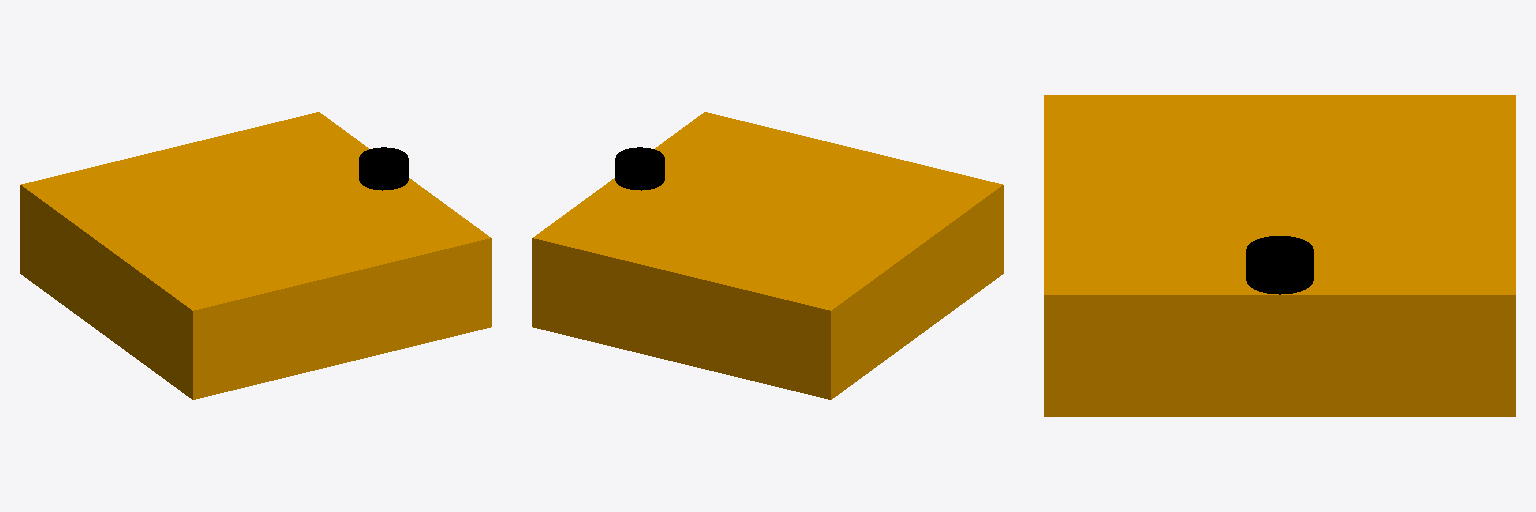
URDF robot description (bot):
<?xml version="1.0"?>
<robot name="bot">
    
  <!-- base link -->
  <link name="base_link">
      <visual>
      <origin xyz="0 0 0" rpy="0 0 0"/>
      <geometry>
        <!--<cylinder length="0.12" radius="0.10"/> -->
        <box size="0.7 0.7 0.2"/>
      </geometry>
    </visual>
  </link>
    
  <!-- laser link -->
  <link name="laser_link">
      <visual>
      <origin xyz="0 0 0" rpy="0 0 0"/>
      <geometry>
        <cylinder length="0.05" radius="0.05"/>
      </geometry>
      <material name="black">
          <color rgba="0.0 0.0 0.0 0.5" /> 
      </material>
    </visual>
  </link>
    
  <!-- laser joint -->
    <joint name="laser_joint" type="fixed">
        <parent link="base_link" />
        <child link="laser_link" />
        <origin xyz="0.3 0 0.125" />
    </joint>

</robot>

--- Facts derived from the render (not from the file) ---
3 views of the same robot in one strip: view 1: azimuth 30°, elevation 25°; view 2: azimuth 150°, elevation 25°; view 3: azimuth 270°, elevation 25° (orthographic).
Model bot with 2 links and 1 joints (1 fixed), rooted at base_link, posed every joint at zero.
Visible links, largest first — view 1: base_link, laser_link; view 2: base_link, laser_link; view 3: base_link, laser_link.
Link boxes in pixels (x1,y1,x2,y2): base_link: [20, 112, 491, 399]; laser_link: [359, 147, 408, 190]; base_link: [532, 112, 1003, 399]; laser_link: [615, 147, 664, 190]; base_link: [1044, 95, 1515, 416]; laser_link: [1246, 236, 1313, 294].
Bounding box of the posed robot: 0.7 × 0.7 × 0.25 m (x, y, z).
Geometry: primitives only (box / cylinder / sphere), no mesh files.